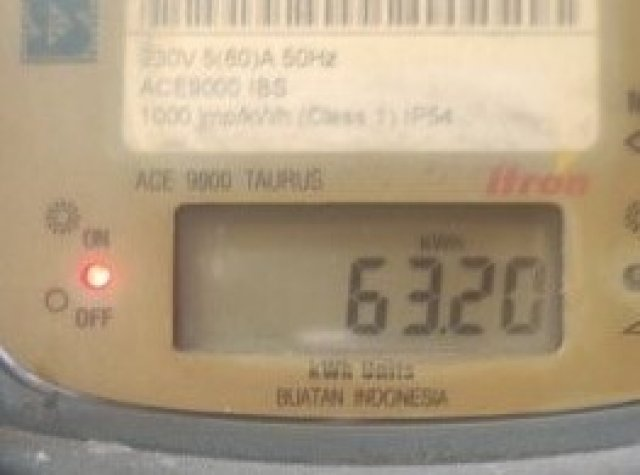box: (174, 205, 562, 351)
